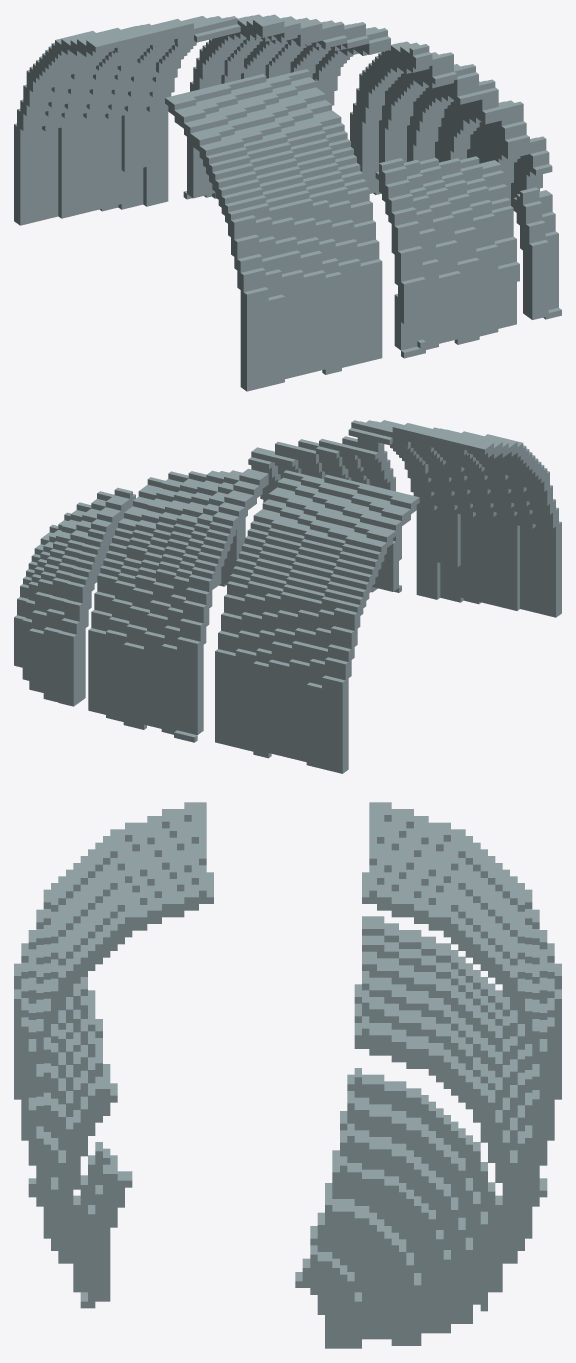
File: crashed_military_helicopter_windscreen.glb
3 views of the same model, one above another, from view 1: azimuth 30°, elevation 25°; view 2: azimuth 150°, elevation 25°; view 3: azimuth 270°, elevation 25° (orthographic). The views are drawn at different scales.
Parts seen in each view (by area): view 1: body:compound; view 2: body:compound; view 3: body:compound.
Boxes of the visible parts, <box> form: body:compound: <box>14,14,561,391</box>; body:compound: <box>14,420,561,773</box>; body:compound: <box>14,802,561,1348</box>.
Bounding box in the file's own units: 2.44 × 1.44 × 2.31.
